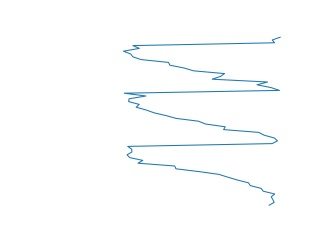distributaryMouthBar: (119, 34, 285, 207)
